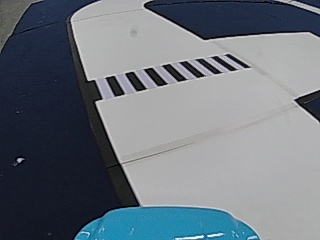CrossWalk: (91, 53, 246, 97)
